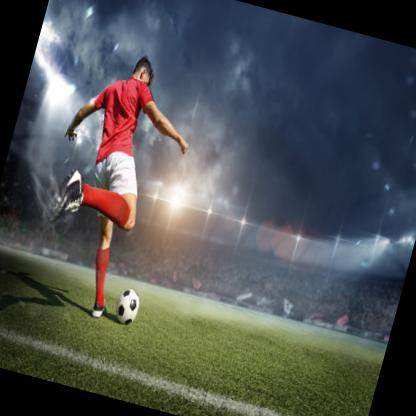ball: (110, 286, 141, 326)
